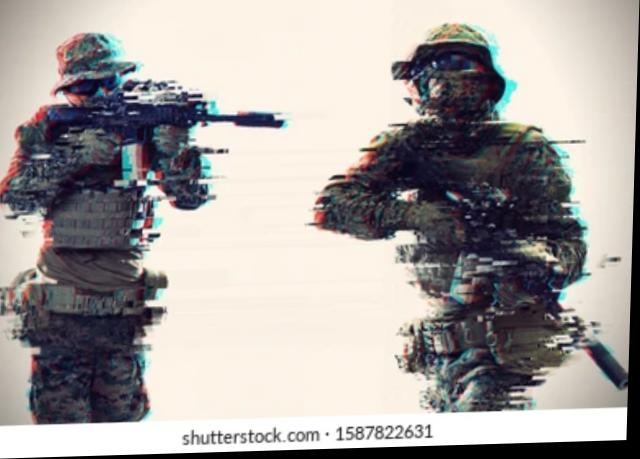other: (5, 30, 190, 412)
